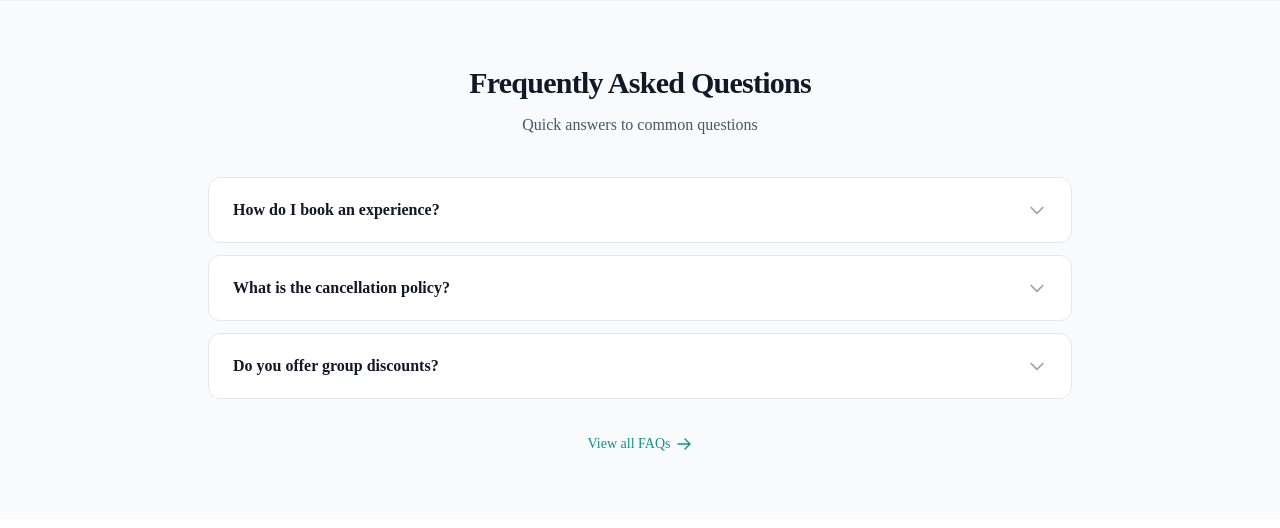
Test: AboutFaqSection › expands FAQ on click
This screenshot has width=1280, height=528.
Expected: the text "You can book directly through our website" is not shown
# Click to expand
Step 1. Click the button "How do I book an experience?" → (336, 210), box x1=209 y1=178 x2=1071 y2=242
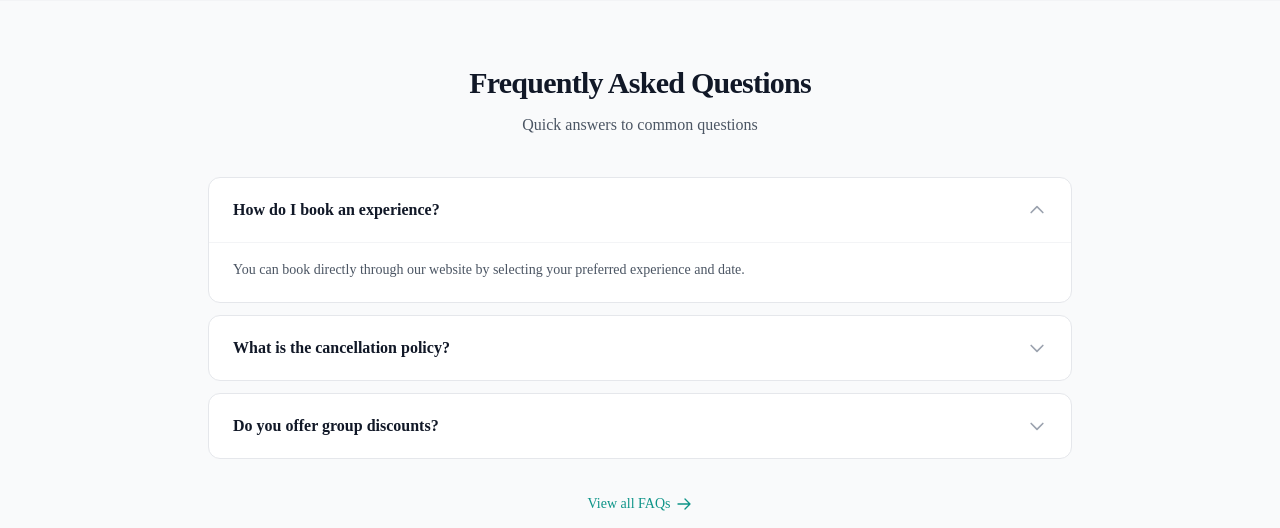
Now the text "You can book directly through our website" is shown, box x1=233 y1=262 x2=745 y2=277
